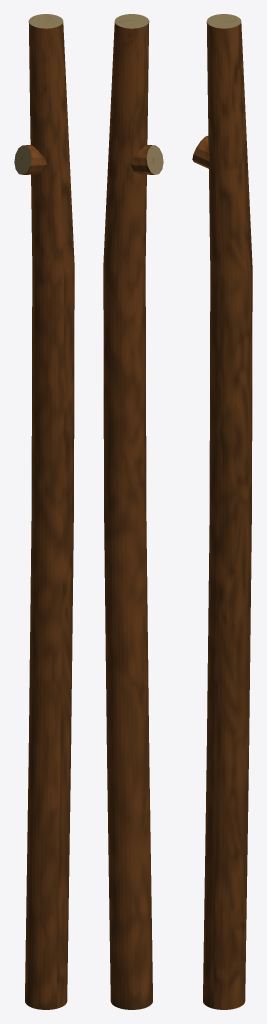
3 renders of one model, left to right at view 1: azimuth 30°, elevation 25°; view 2: azimuth 150°, elevation 25°; view 3: azimuth 330°, elevation 25°, orthographic.
Visible parts, largest first — view 1: stick4; view 2: stick4; view 3: stick4.
Boxes of the visible parts, x1,y1,x2,y2 form: stick4: (14, 14, 74, 1009); stick4: (103, 14, 163, 1009); stick4: (192, 14, 252, 1009).
Size of the model in its own units: 0.1906 by 3.37 by 0.1324.
2 materials, 2 textured.
